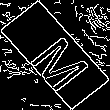M_NE: (18, 21, 92, 89)
